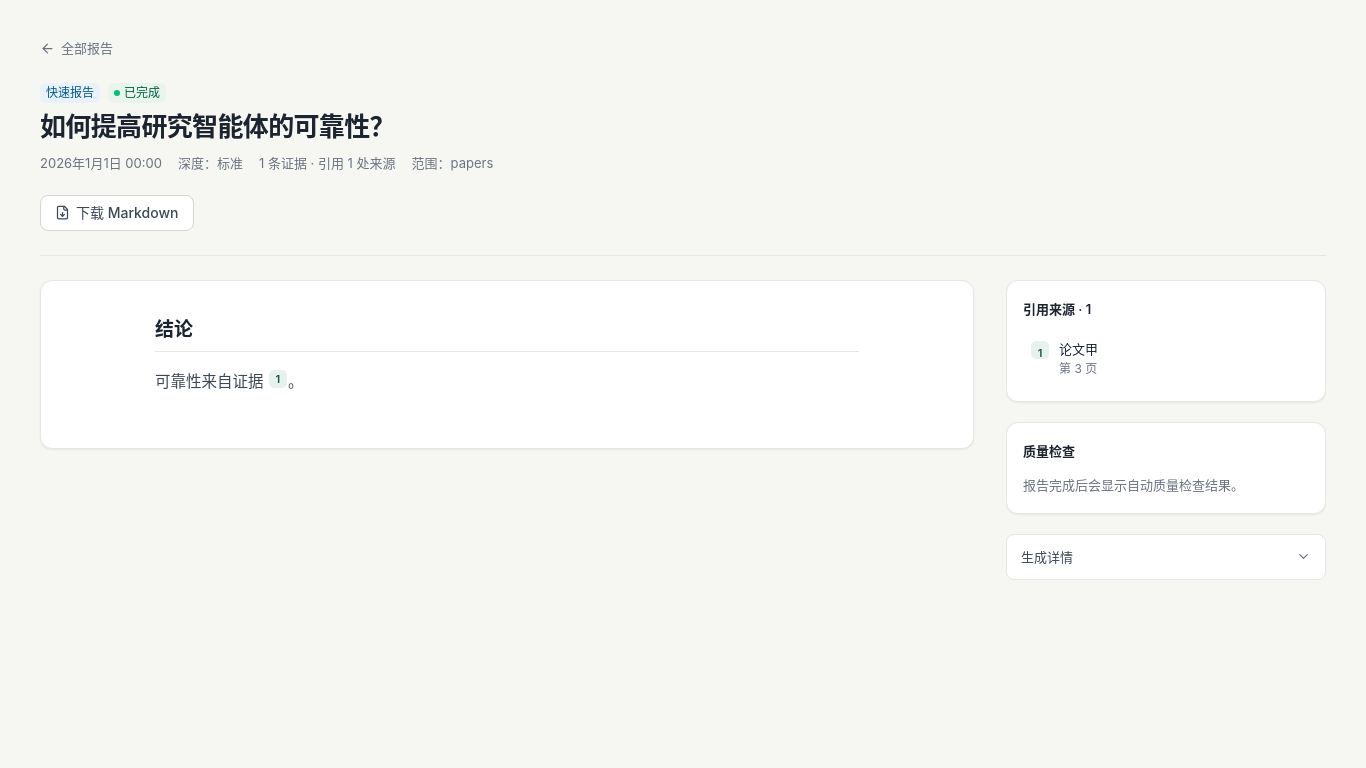
it: browser acceptance states › redirects legacy report links to the reader and opens a cited passage
What coordinates should you click on to do the following:
click the button named "查看引用 1 的原文"
I would click on:
 (278, 379)
Its box is left=269, top=370, right=287, bottom=388.
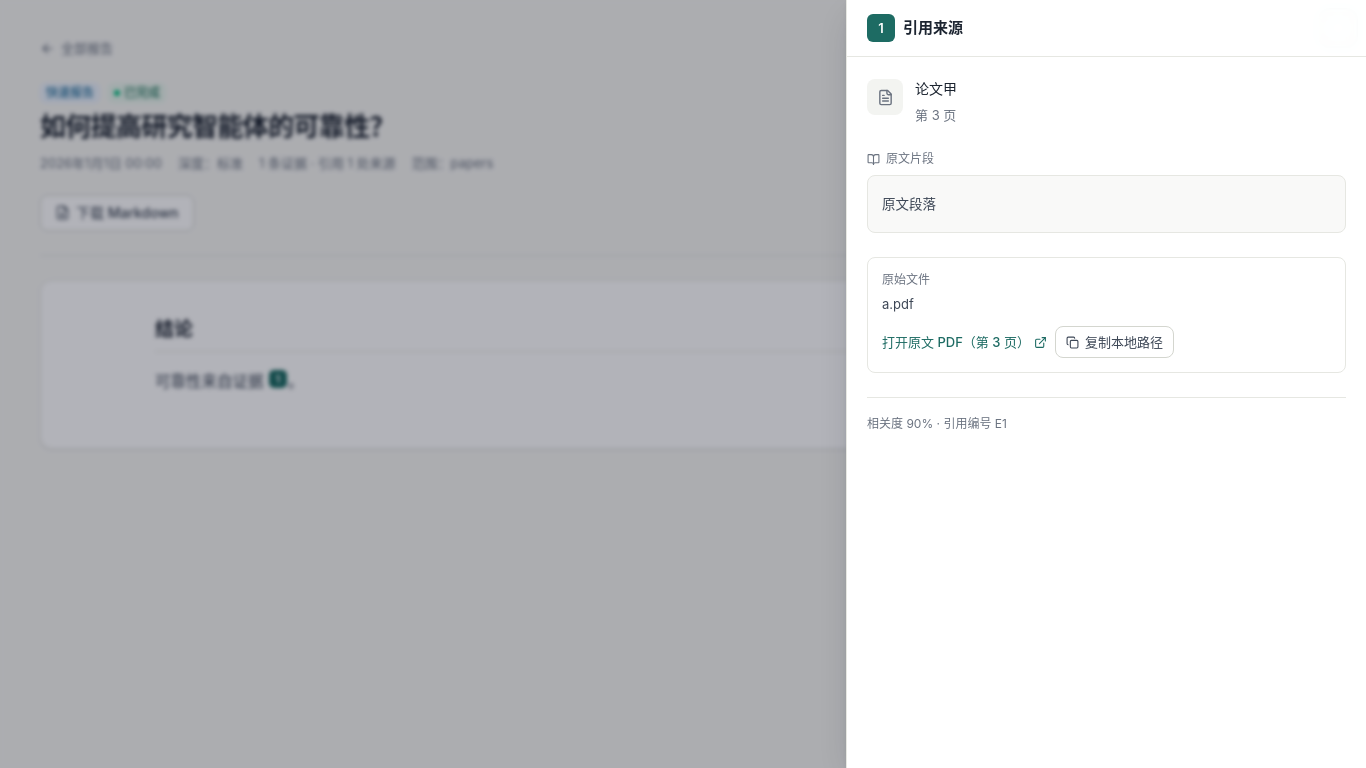
Expected: the text "第 3 页" below "引用来源 · 1" is shown, left=1059, top=360, right=1097, bottom=376
Expected: the text "原文段落" is shown, left=867, top=175, right=1346, bottom=233
